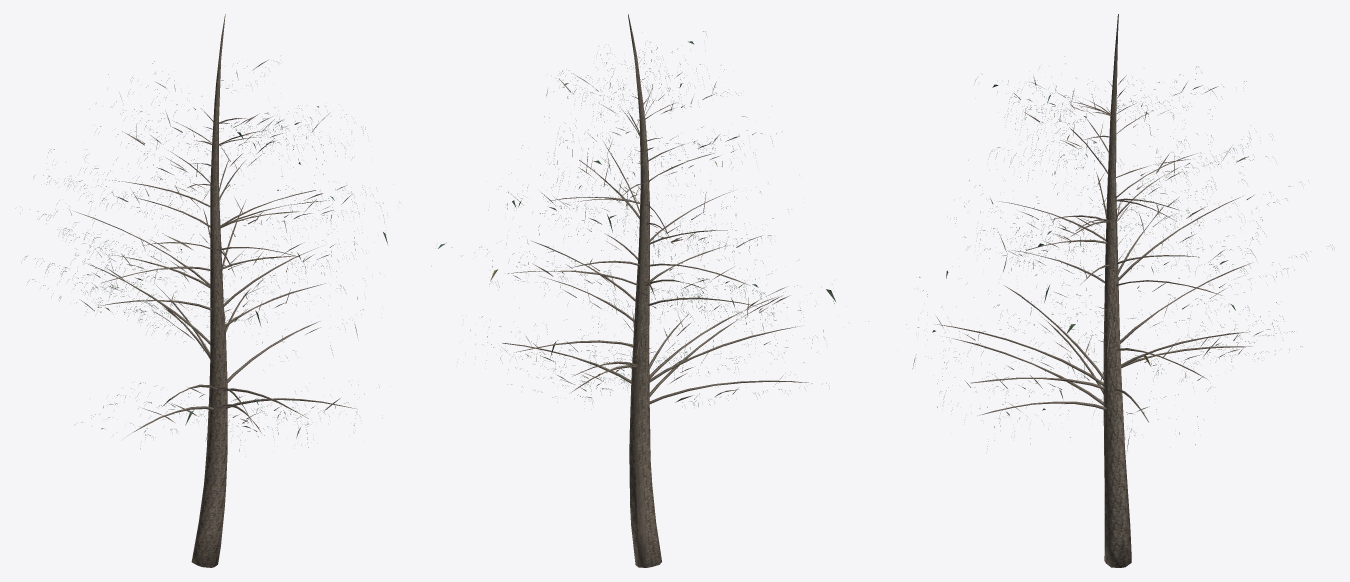
File: casuarina-5-lite.glb
The picture shows the model from 3 angles, left to right: view 1: azimuth 30°, elevation 25°; view 2: azimuth 150°, elevation 25°; view 3: azimuth 270°, elevation 25°; orthographic projection. The views are drawn at different scales.
Parts seen in each view (by area): view 1: bark, branchlets; view 2: bark, branchlets; view 3: bark, branchlets.
Boxes of the visible parts, bbox=[...] form: bark: bbox=[69, 14, 357, 567]; branchlets: bbox=[24, 60, 387, 451]; bark: bbox=[499, 14, 812, 567]; branchlets: bbox=[438, 31, 868, 406]; bark: bbox=[935, 14, 1262, 567]; branchlets: bbox=[906, 56, 1332, 450].
Size of the model in its own units: 5.5 by 8.13 by 5.78.
2 materials, 2 textured.
